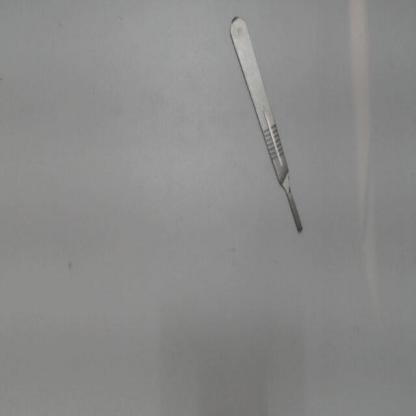No.4 BP Handle: (215, 2, 315, 248)
